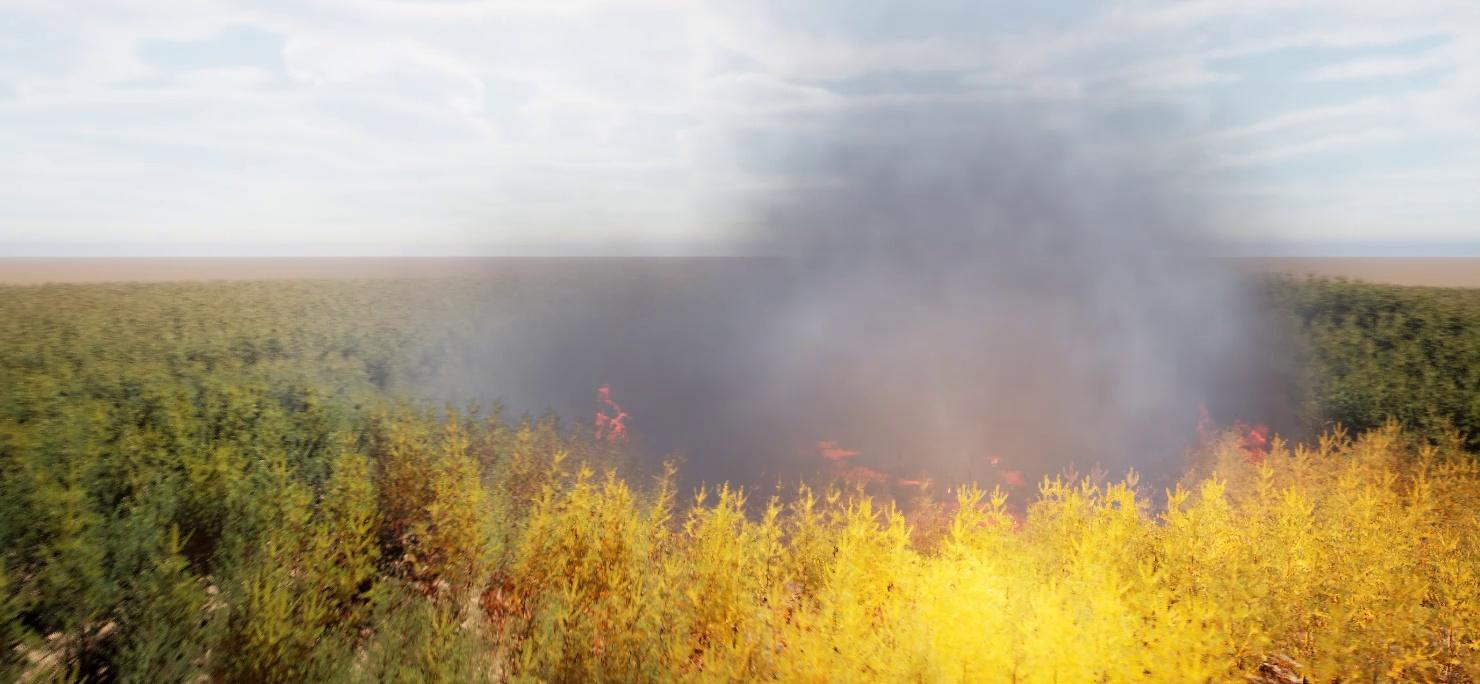fire: (677, 433, 1471, 683), (815, 433, 1032, 515), (1189, 398, 1274, 465), (591, 383, 633, 444)
smoke: (411, 50, 1403, 507)
